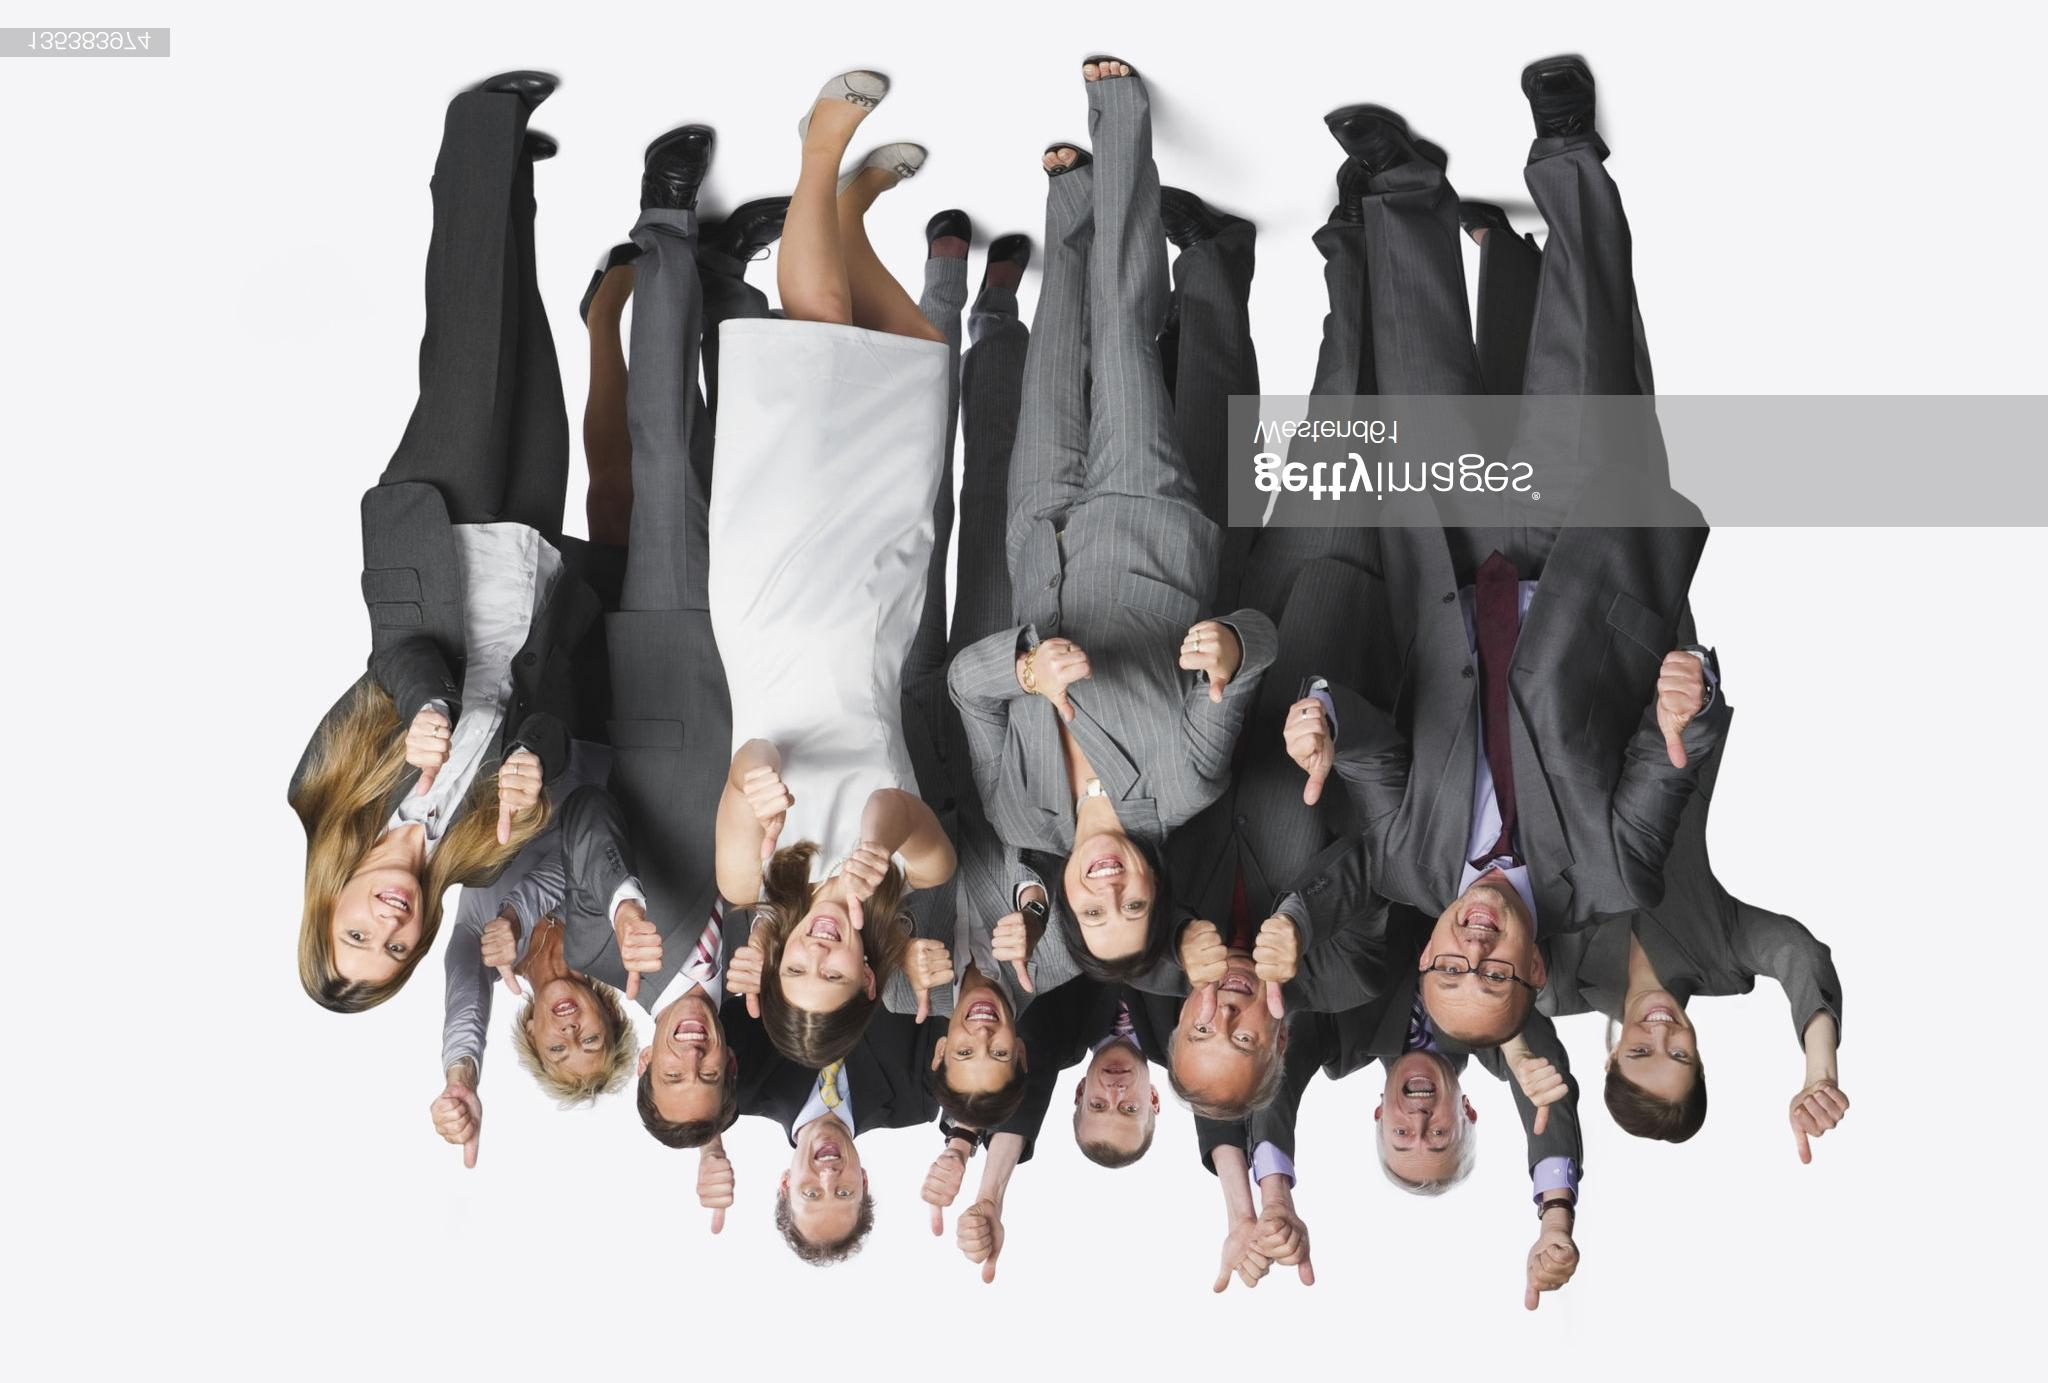thumbsdown: (1656, 651, 1704, 769), (1179, 918, 1228, 1026), (1283, 698, 1330, 806), (1789, 1082, 1850, 1165), (1252, 918, 1299, 1020), (742, 766, 792, 861), (840, 841, 891, 931), (497, 752, 543, 844), (404, 710, 454, 796), (1256, 1215, 1315, 1287), (1043, 637, 1093, 722), (1519, 1054, 1570, 1136), (1178, 620, 1225, 704), (1523, 1243, 1580, 1312), (909, 937, 954, 1025), (619, 918, 664, 1002), (921, 1155, 966, 1238), (429, 1096, 478, 1168), (989, 912, 1032, 994), (478, 918, 523, 996), (1213, 1238, 1273, 1293), (694, 1158, 736, 1235), (955, 1212, 999, 1286), (725, 946, 764, 1019)
